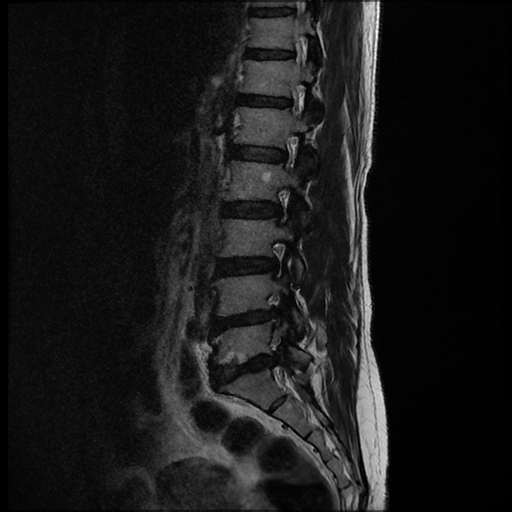RFS0: (270, 128, 310, 174)
RFS1: (263, 177, 298, 230), (260, 232, 294, 283)
